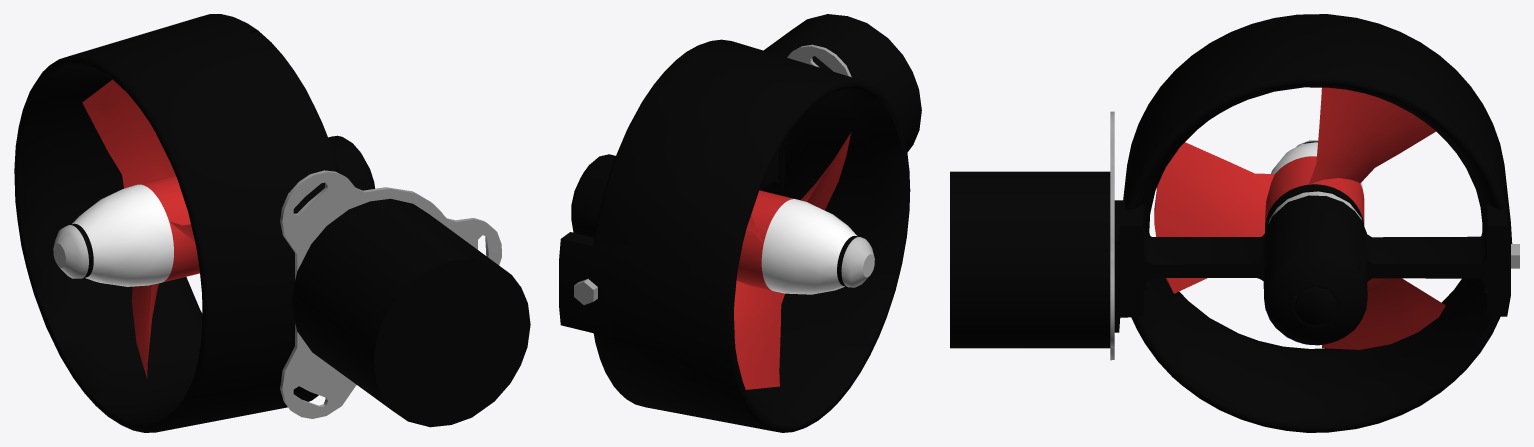
The model's file is thruster.dae.
The picture shows the model from 3 angles, left to right: view 1: azimuth 30°, elevation 25°; view 2: azimuth 150°, elevation 25°; view 3: azimuth 270°, elevation 25°; orthographic projection. The views are drawn at different scales.
Parts seen in each view (by area): view 1: duct.001, propeller.001; view 2: duct.001, propeller.001; view 3: duct.001, propeller.001.
Part boxes in pixels (<box>): duct.001: <box>14,14,530,432</box>; propeller.001: <box>53,79,199,378</box>; duct.001: <box>559,14,921,432</box>; propeller.001: <box>734,132,874,389</box>; duct.001: <box>950,14,1519,432</box>; propeller.001: <box>1154,87,1445,349</box>.
Size of the model in its own units: 0.2128 by 0.315 by 0.2183.
Materials: 2 (2 with a texture image).
